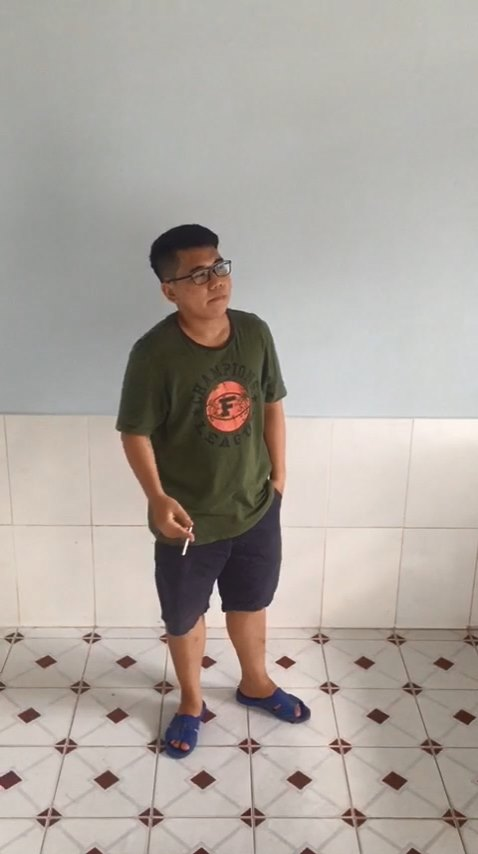cigarette: (181, 523, 199, 560)
person: (101, 201, 340, 771)
